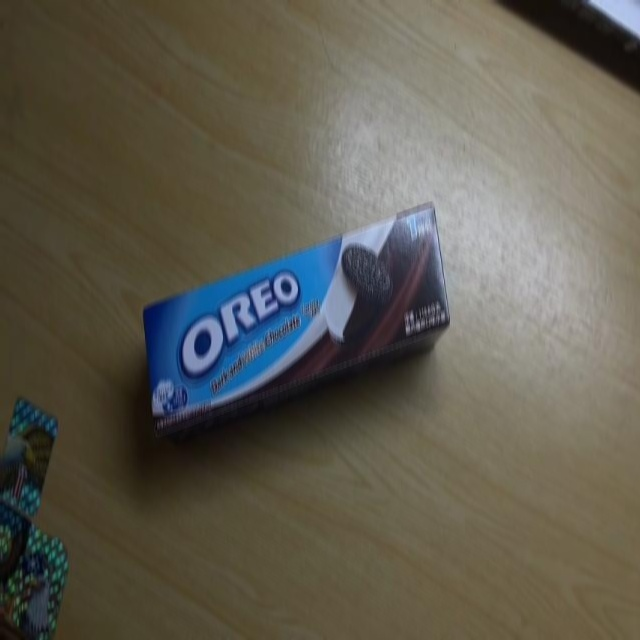Oreo: (142, 204, 449, 434)
